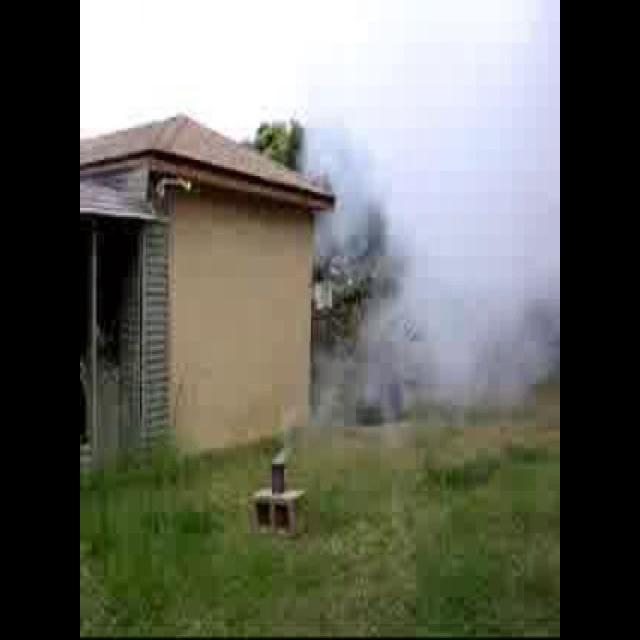Smoke: (287, 0, 560, 462), (294, 104, 372, 268)
